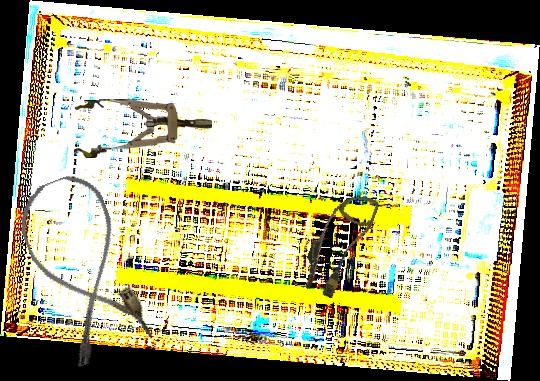Cannula: (8, 166, 157, 370), (296, 185, 381, 303)
Speculum: (72, 95, 213, 159)
